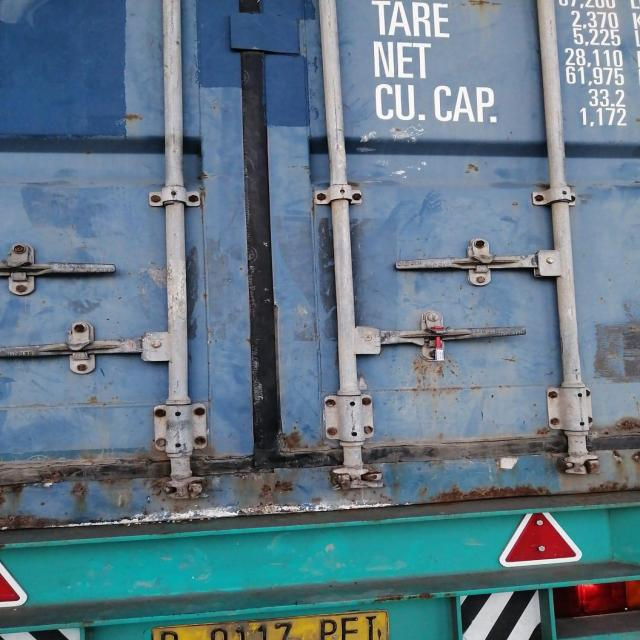seal: (433, 324, 446, 358)
